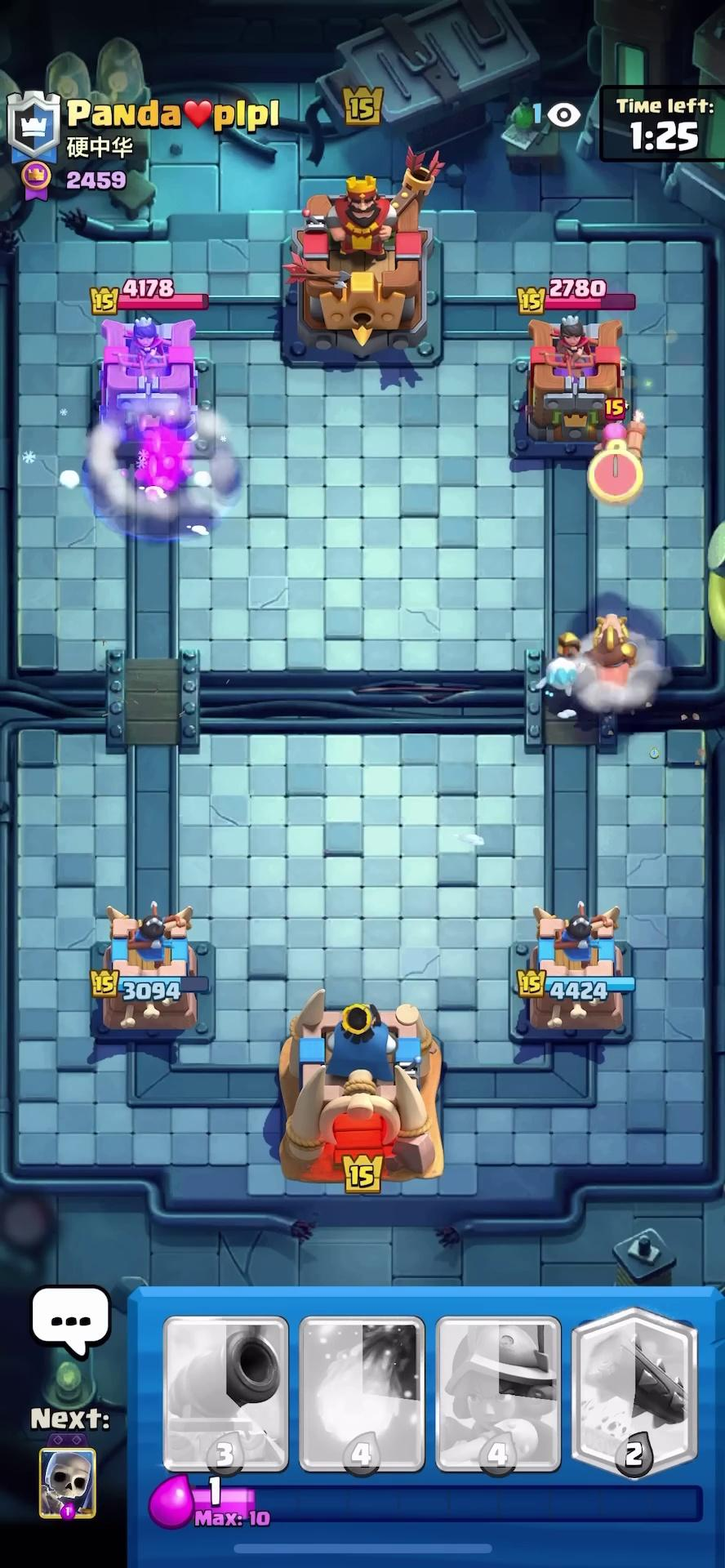hog_rider: (567, 604, 659, 698)
ice_spirit: (539, 641, 588, 706)
